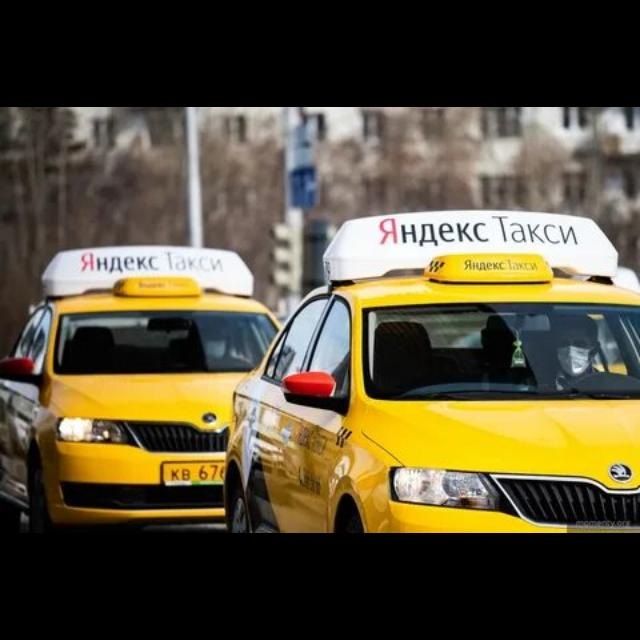taxi: (223, 209, 640, 533), (2, 245, 287, 534)
